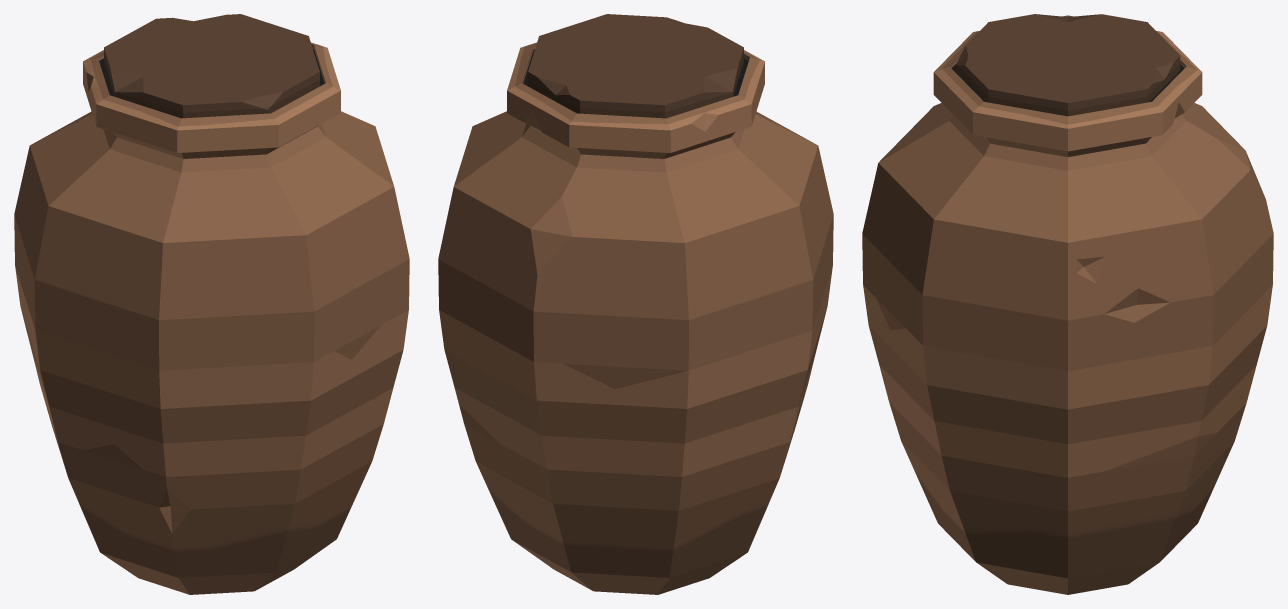
File: urn.gltf
3 views of the same model, side by side, from view 1: azimuth 30°, elevation 25°; view 2: azimuth 150°, elevation 25°; view 3: azimuth 270°, elevation 25° (orthographic).
Visible parts, largest first — view 1: urn; view 2: urn; view 3: urn.
Part boxes in pixels (x1=…): urn: x1=14, y1=14, x2=409, y2=594; urn: x1=438, y1=14, x2=833, y2=594; urn: x1=862, y1=14, x2=1273, y2=594.
Size of the model in its own units: 0.7703 by 1.04 by 0.7703.
1 material, 1 textured.
